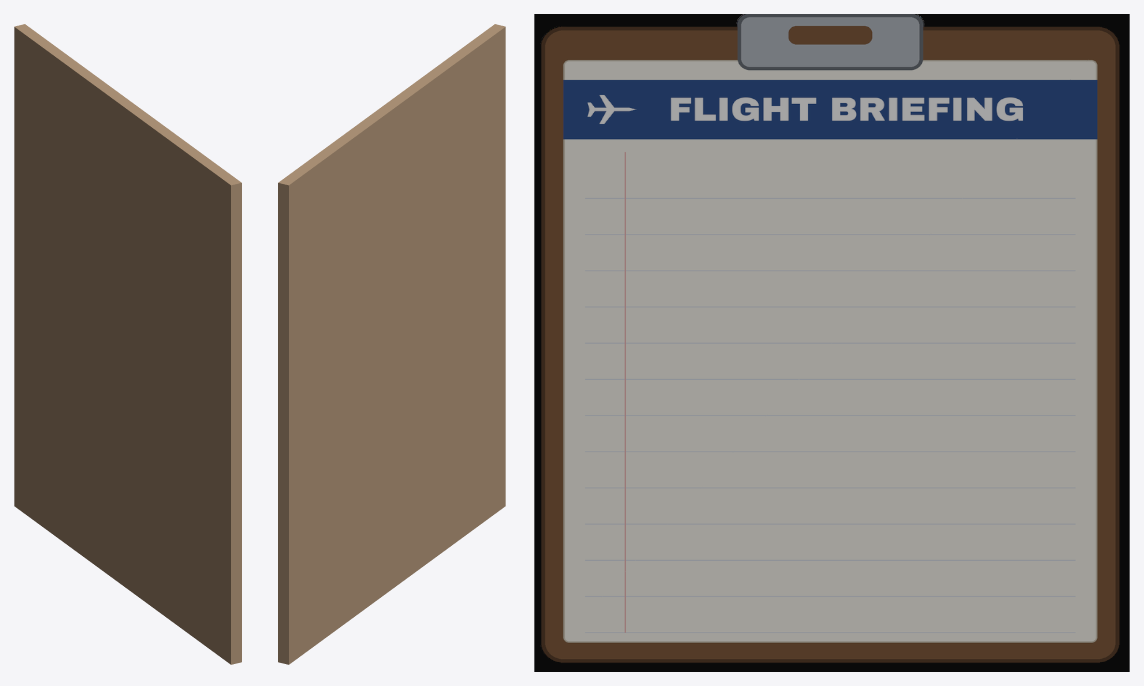
Rendered from FeuilleMur.glb.
3 renders of one model, left to right at view 1: azimuth 30°, elevation 25°; view 2: azimuth 150°, elevation 25°; view 3: azimuth 270°, elevation 25°, orthographic. The views are drawn at different scales.
Parts seen in each view (by area): view 1: geometry_1; view 2: geometry_1; view 3: geometry_0.
Part boxes in pixels (<box>): geometry_1: <box>14,24,241,664</box>; geometry_1: <box>278,24,505,664</box>; geometry_0: <box>534,14,1129,671</box>.
Size of the model in its own units: 0.012 by 0.5 by 0.41.
Materials: 2 (1 with a texture image).
